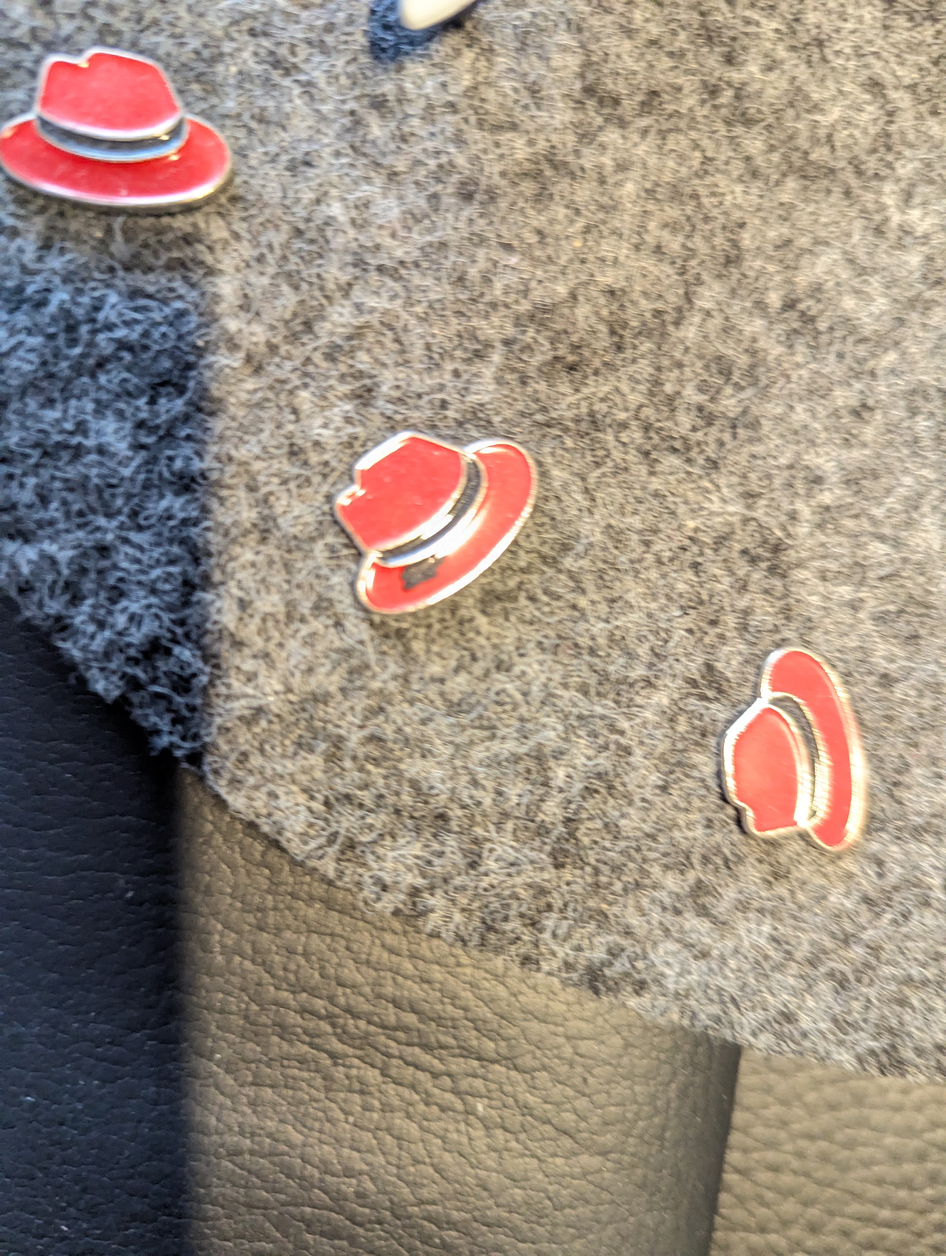Red-Hat: (309, 412, 582, 646), (707, 619, 891, 894), (0, 41, 248, 235)
Scratch: (384, 544, 465, 594)
